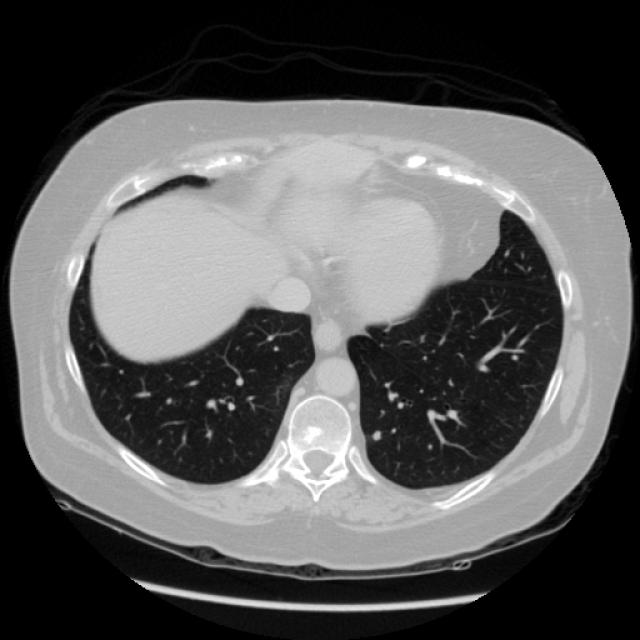nodule: (365, 423, 387, 445)
